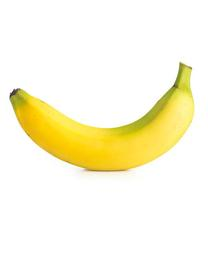banana: (9, 59, 196, 175)
